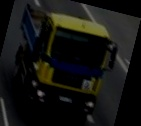truck: (0, 2, 123, 126)
